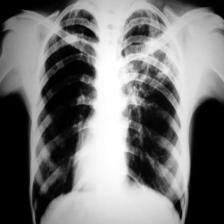tuberculosis: (30, 0, 188, 224)
